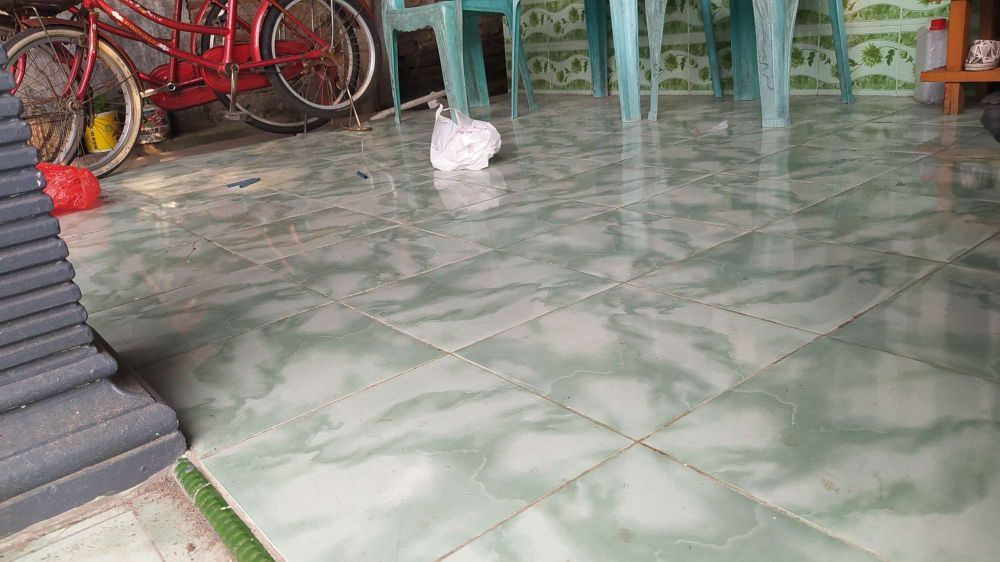plastik: (417, 101, 513, 181), (37, 155, 106, 218)
